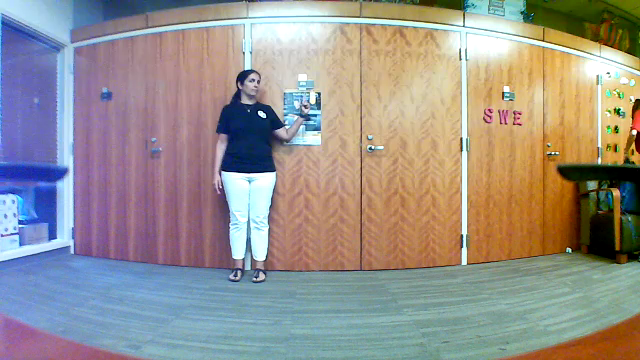up: (294, 91, 313, 119)
